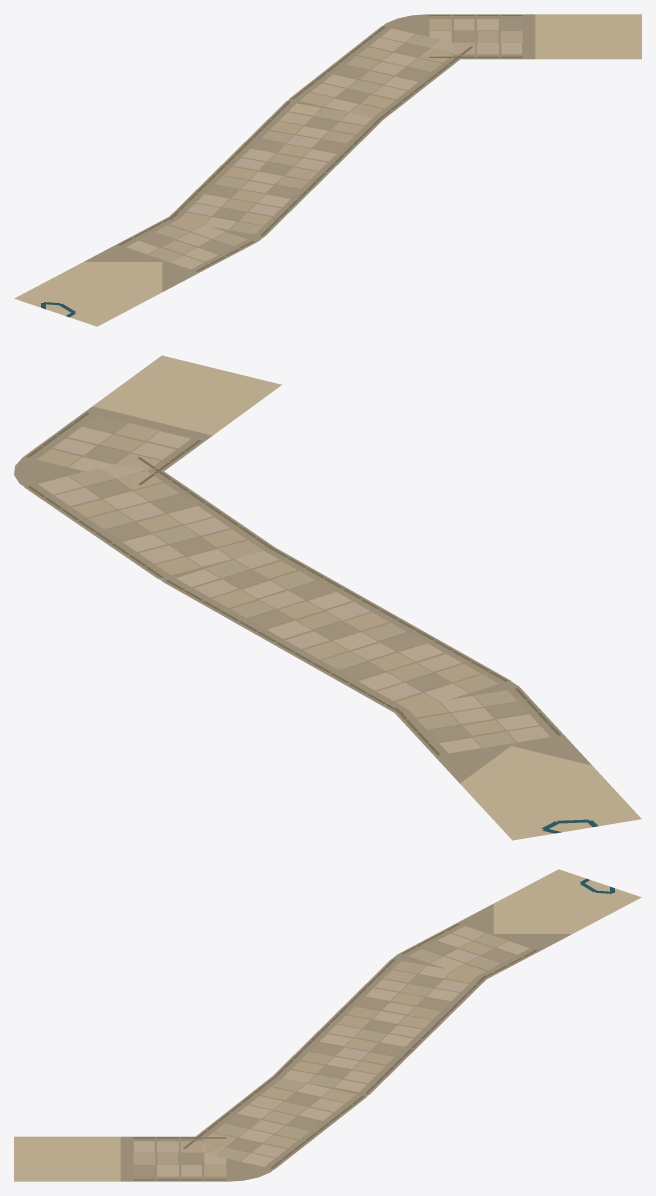
Rendered from route-def-yard_n-walk.glb.
The picture shows the model from 3 angles, top to bottom: view 1: azimuth 90°, elevation 25°; view 2: azimuth 150°, elevation 25°; view 3: azimuth 270°, elevation 25°; orthographic projection. The views are drawn at different scales.
Visible parts, largest first — view 1: Surveyed floor · route-def-yard_n-walk, Water Gate to Scale Yard / #C9B798, Water Gate to Scale Yard / #C2AE8D, Water Gate to Scale Yard / #BDAD8E, Water Gate to Scale Yard / #C7B399, Water Gate to Scale Yard / #AE9D84, Water Gate to Scale Yard / #85775D; view 2: Surveyed floor · route-def-yard_n-walk, Water Gate to Scale Yard / #C9B798, Water Gate to Scale Yard / #C2AE8D, Water Gate to Scale Yard / #BDAD8E, Water Gate to Scale Yard / #C7B399, Water Gate to Scale Yard / #AE9D84, Water Gate to Scale Yard / #85775D; view 3: Surveyed floor · route-def-yard_n-walk, Water Gate to Scale Yard / #C9B798, Water Gate to Scale Yard / #BDAD8E, Water Gate to Scale Yard / #C2AE8D, Water Gate to Scale Yard / #C7B399, Water Gate to Scale Yard / #AE9D84, Water Gate to Scale Yard / #85775D.
Boxes of the visible parts, x1,y1,x2,y2 form: Surveyed floor · route-def-yard_n-walk: (14, 14, 641, 326); Water Gate to Scale Yard / #C9B798: (126, 19, 521, 261); Water Gate to Scale Yard / #C2AE8D: (163, 19, 522, 253); Water Gate to Scale Yard / #BDAD8E: (148, 31, 498, 261); Water Gate to Scale Yard / #C7B399: (170, 19, 498, 269); Water Gate to Scale Yard / #AE9D84: (140, 19, 522, 253); Water Gate to Scale Yard / #85775D: (118, 15, 522, 271); Surveyed floor · route-def-yard_n-walk: (14, 355, 641, 840); Water Gate to Scale Yard / #C9B798: (38, 426, 539, 753); Water Gate to Scale Yard / #C2AE8D: (37, 423, 504, 735); Water Gate to Scale Yard / #BDAD8E: (69, 434, 517, 747); Water Gate to Scale Yard / #C7B399: (53, 438, 550, 742); Water Gate to Scale Yard / #AE9D84: (83, 415, 527, 741); Water Gate to Scale Yard / #85775D: (26, 412, 560, 755); Surveyed floor · route-def-yard_n-walk: (14, 869, 641, 1181); Water Gate to Scale Yard / #C9B798: (134, 933, 529, 1176); Water Gate to Scale Yard / #BDAD8E: (157, 933, 507, 1164); Water Gate to Scale Yard / #C2AE8D: (133, 941, 492, 1176); Water Gate to Scale Yard / #C7B399: (157, 926, 485, 1176); Water Gate to Scale Yard / #AE9D84: (133, 941, 515, 1176); Water Gate to Scale Yard / #85775D: (133, 923, 537, 1180).
Bounding box in the file's own units: 55.5 × 0.026 × 47.12.
